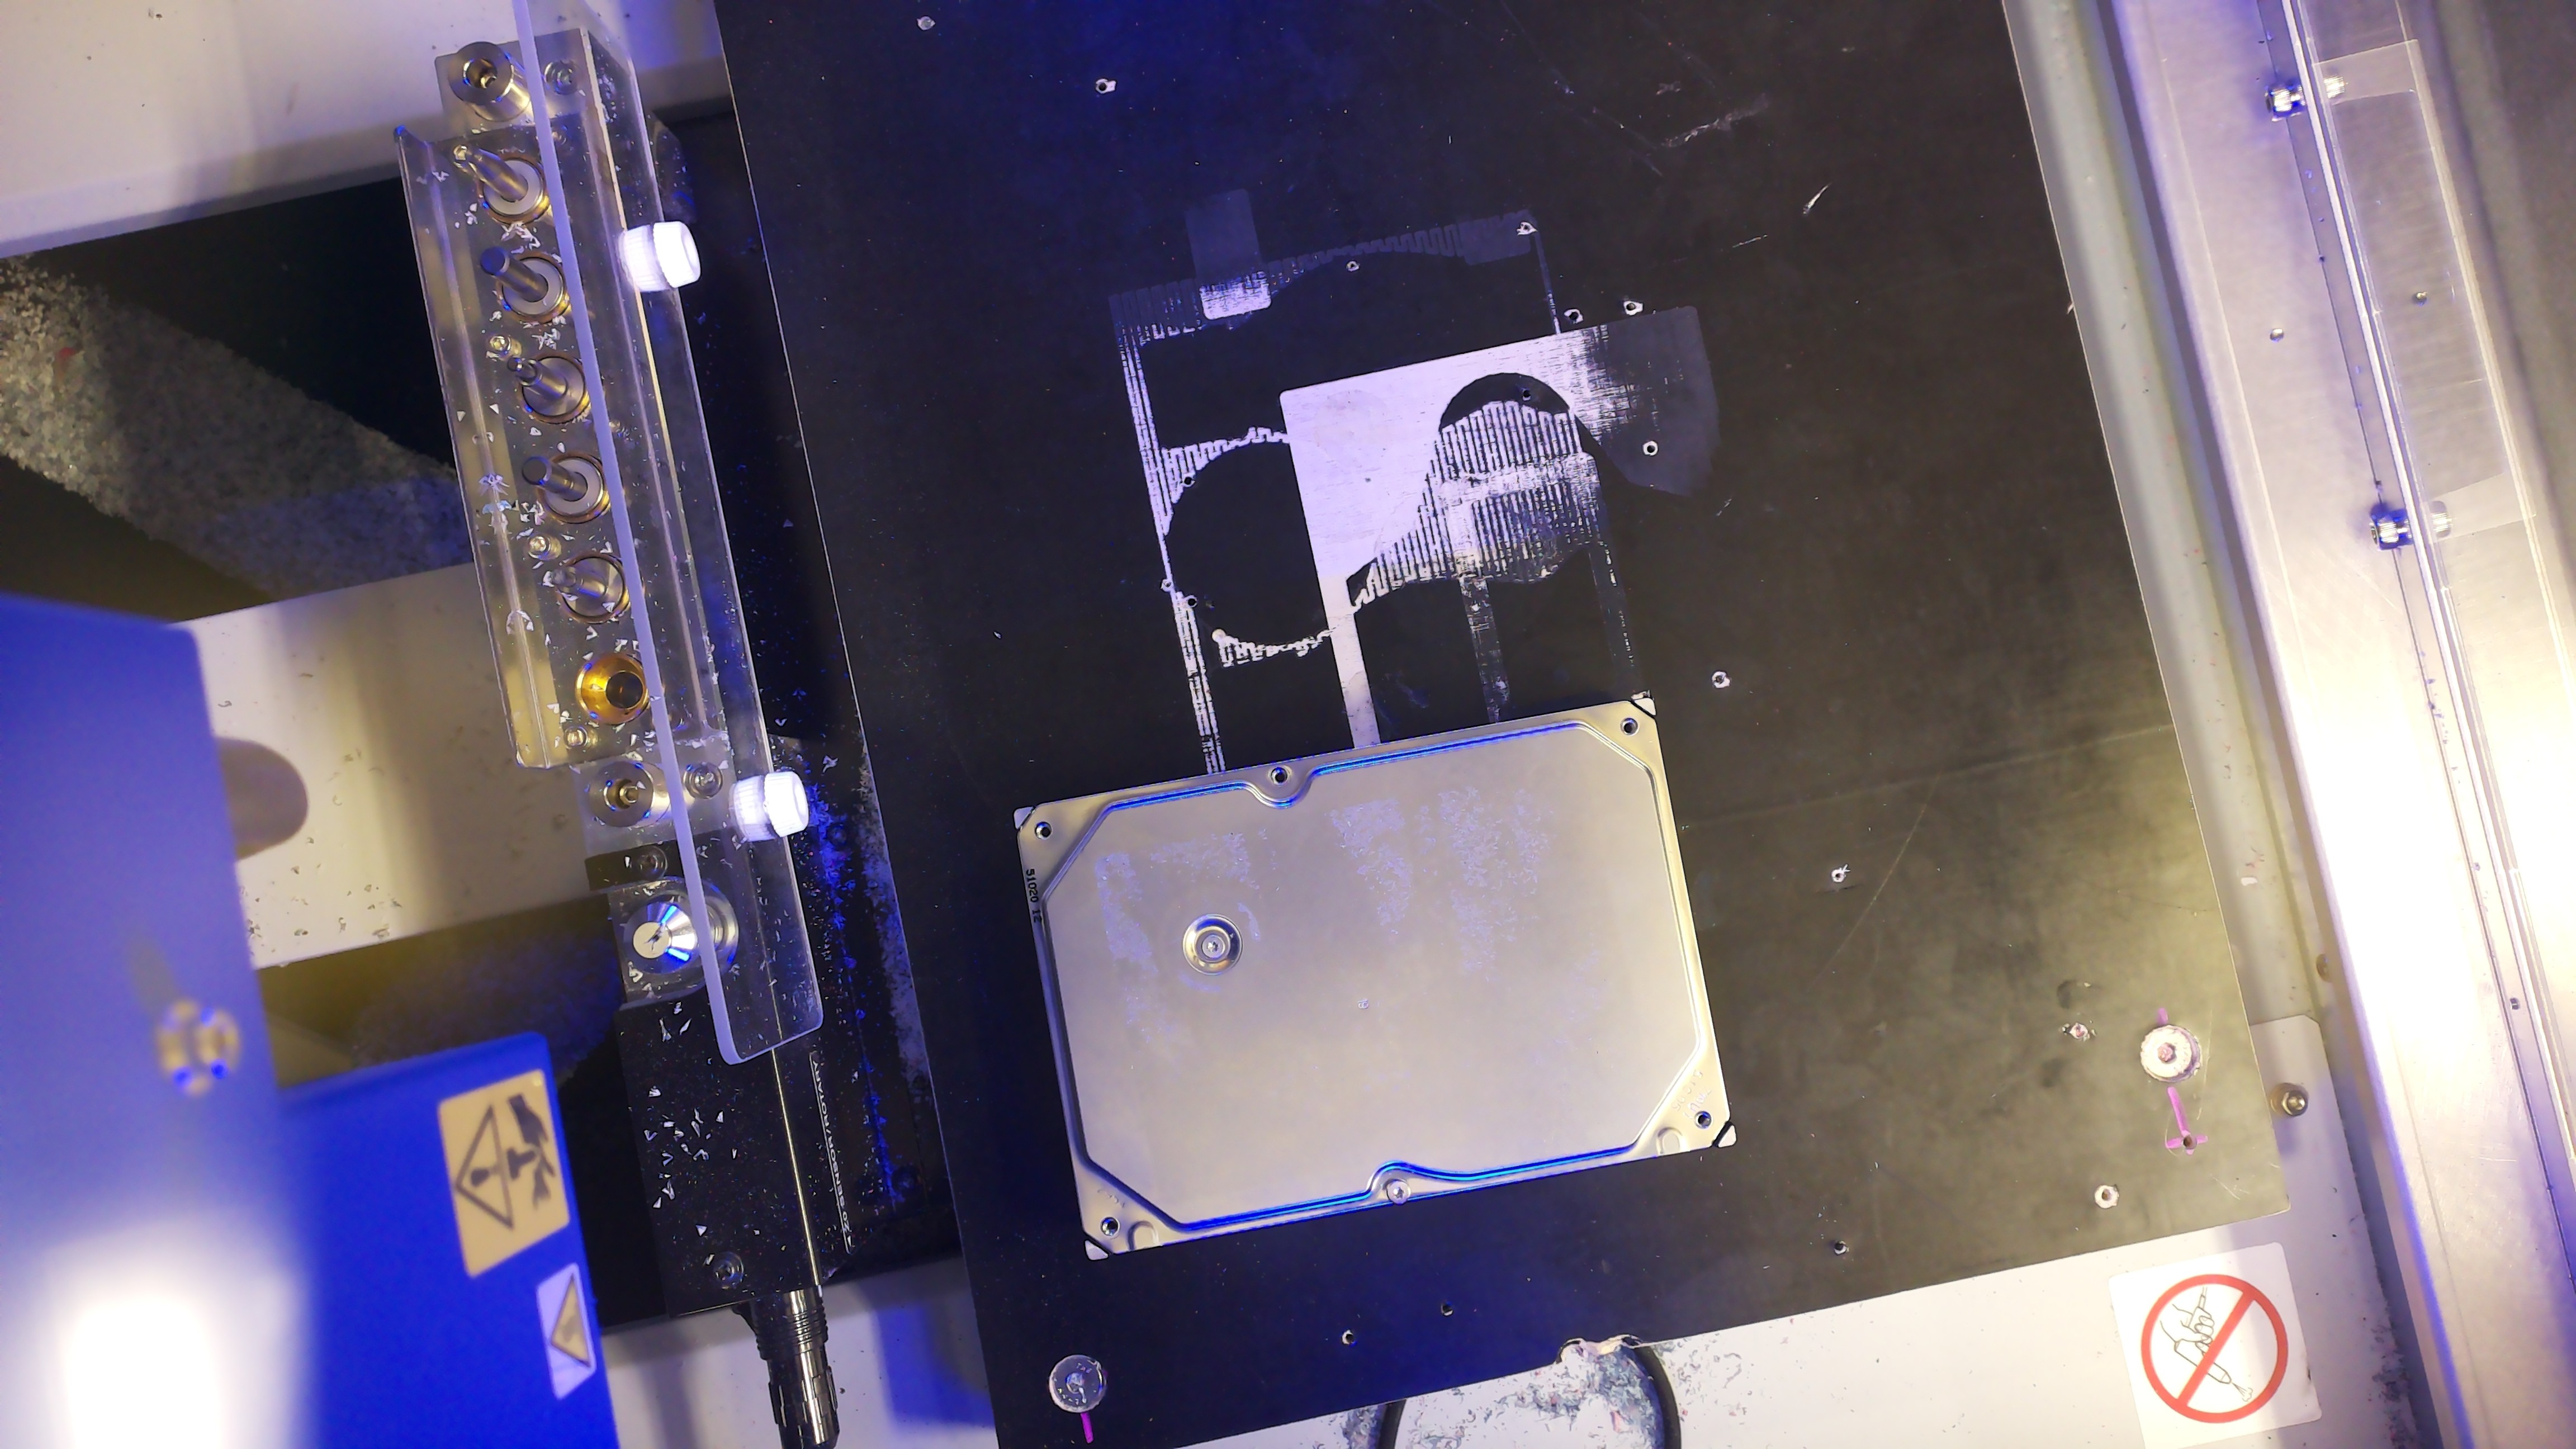Hole: (1099, 1217, 1120, 1237), (1270, 766, 1288, 786), (1621, 717, 1638, 736), (1693, 1111, 1713, 1129), (1035, 821, 1051, 840)
Screw: (1385, 1180, 1412, 1205), (1201, 934, 1226, 959)
